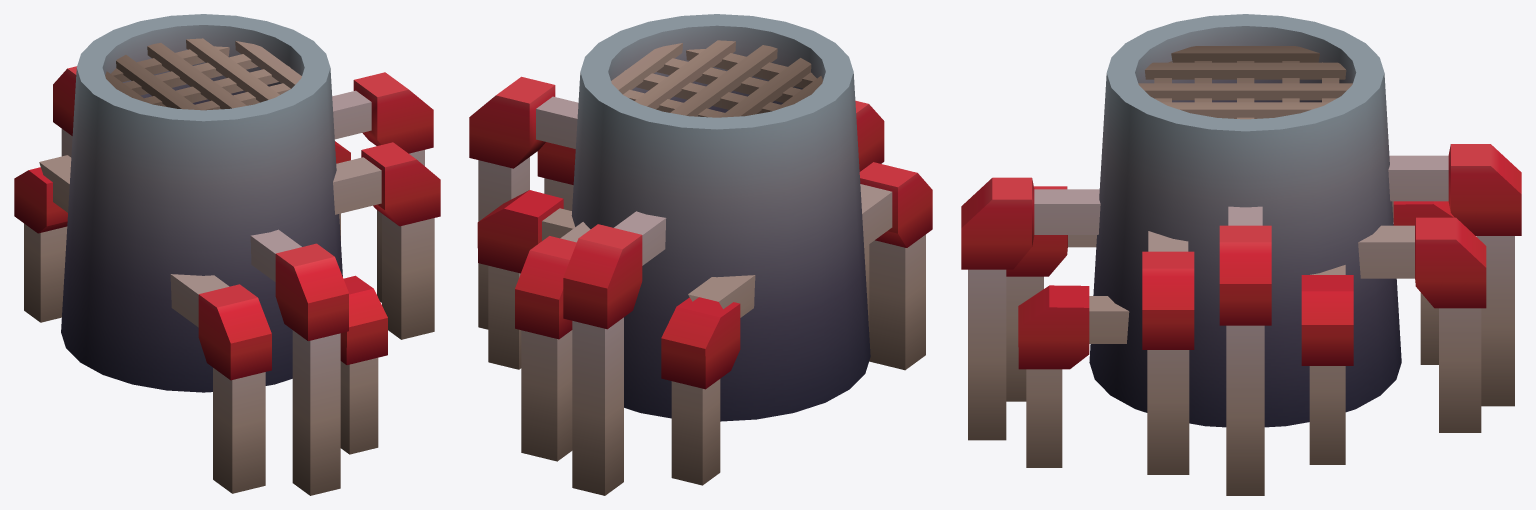
Rendered from column_lev_11.fbx.
3 views of the same model, side by side, from view 1: azimuth 30°, elevation 25°; view 2: azimuth 150°, elevation 25°; view 3: azimuth 270°, elevation 25° (orthographic). The views are drawn at different scales.
Parts seen in each view (by area): view 1: column_lev_12; view 2: column_lev_12; view 3: column_lev_12.
Part boxes in pixels (box(x1,y1,x2,y2)): column_lev_12: box(14, 14, 440, 495); column_lev_12: box(469, 14, 932, 495); column_lev_12: box(961, 14, 1521, 495).
Bounding box in the file's own units: 311 × 288 × 403.
